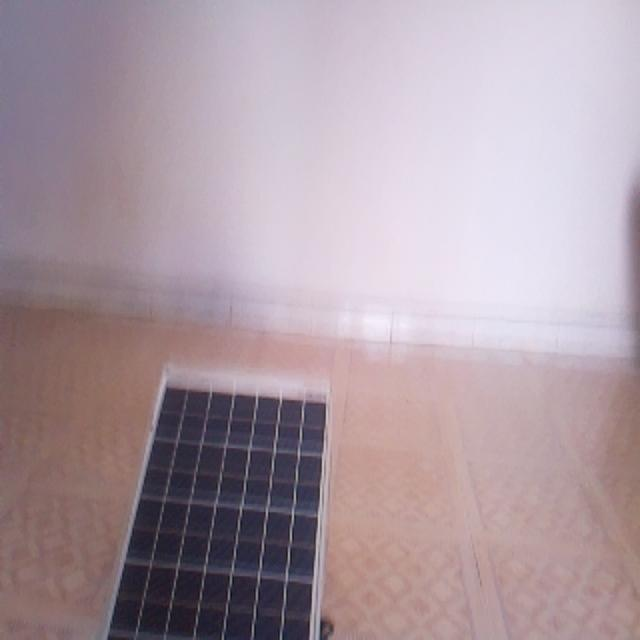Normal Solar Panel: (110, 387, 326, 640)
